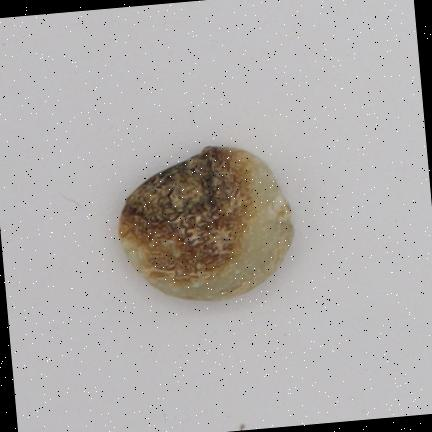partial-black: (120, 147, 294, 299)
